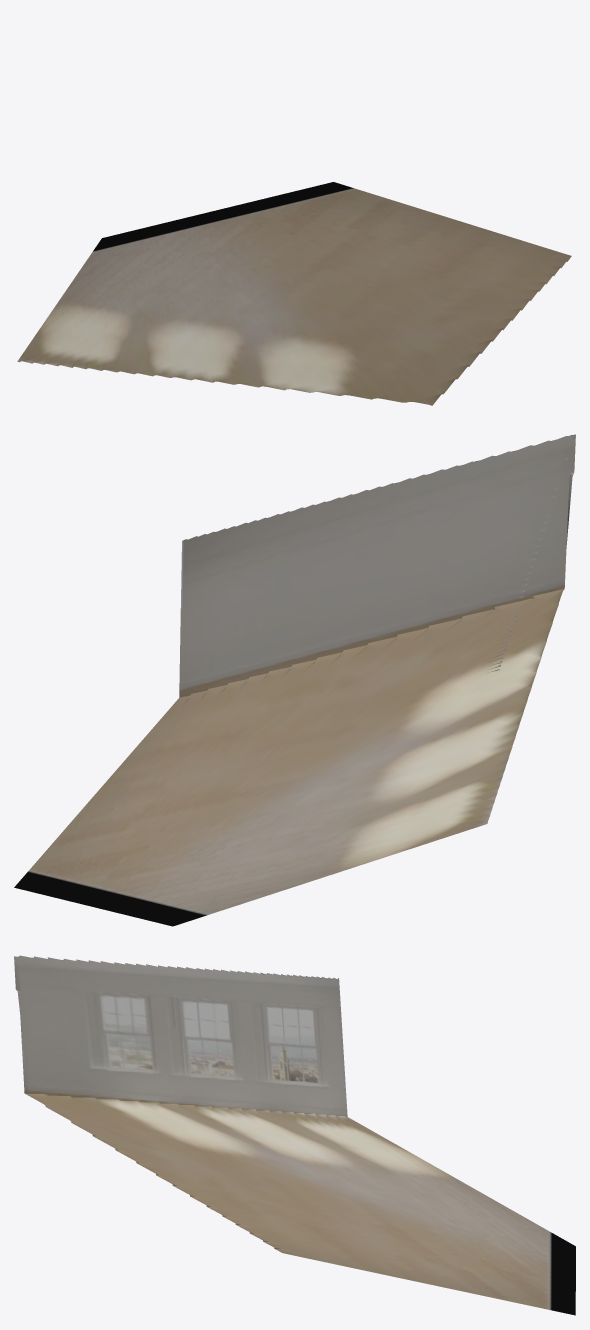
File: 2_dense.glb
The picture shows the model from 3 angles, top to bottom: view 1: azimuth 30°, elevation 25°; view 2: azimuth 150°, elevation 25°; view 3: azimuth 270°, elevation 25°; orthographic projection. The views are drawn at different scales.
Visible parts, largest first — view 1: world; view 2: world; view 3: world.
Boxes of the visible parts, x1,y1,x2,y2 form: world: [17, 182, 571, 405]; world: [14, 434, 575, 926]; world: [14, 955, 575, 1315].
Bounding box in the file's own units: 4.99 × 3.82 × 7.73.
